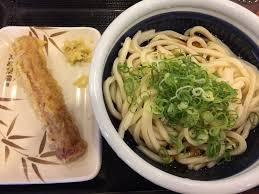bukkake: (96, 4, 259, 187)
